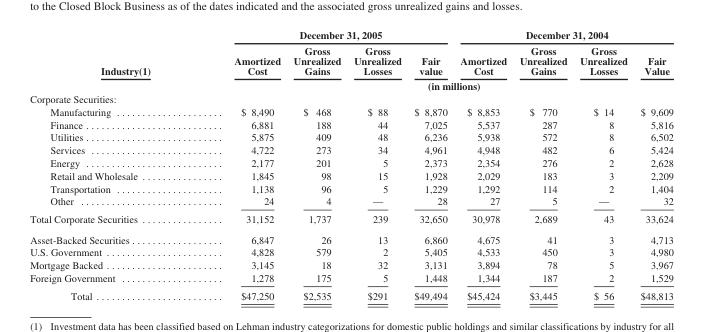table: (29, 28, 672, 301)
table column: (29, 28, 191, 301), (191, 28, 286, 301), (346, 28, 407, 301), (572, 28, 633, 301), (286, 28, 346, 301), (512, 28, 572, 301), (453, 28, 512, 301), (407, 28, 453, 301), (633, 28, 672, 301)
table column header: (29, 28, 672, 92)
table projected row header: (29, 92, 672, 105)
table row: (29, 42, 672, 78), (29, 209, 672, 228), (29, 228, 672, 245), (29, 194, 672, 209), (29, 271, 672, 286), (29, 286, 672, 301), (29, 28, 672, 42), (29, 78, 672, 92), (29, 92, 672, 105), (29, 117, 672, 130), (29, 130, 672, 143), (29, 143, 672, 156), (29, 168, 672, 181), (29, 181, 672, 194), (29, 245, 672, 258), (29, 258, 672, 271), (29, 105, 672, 117), (29, 156, 672, 168)
table spanning cell: (29, 28, 191, 92), (191, 78, 672, 92), (191, 28, 453, 42), (453, 28, 672, 42)
